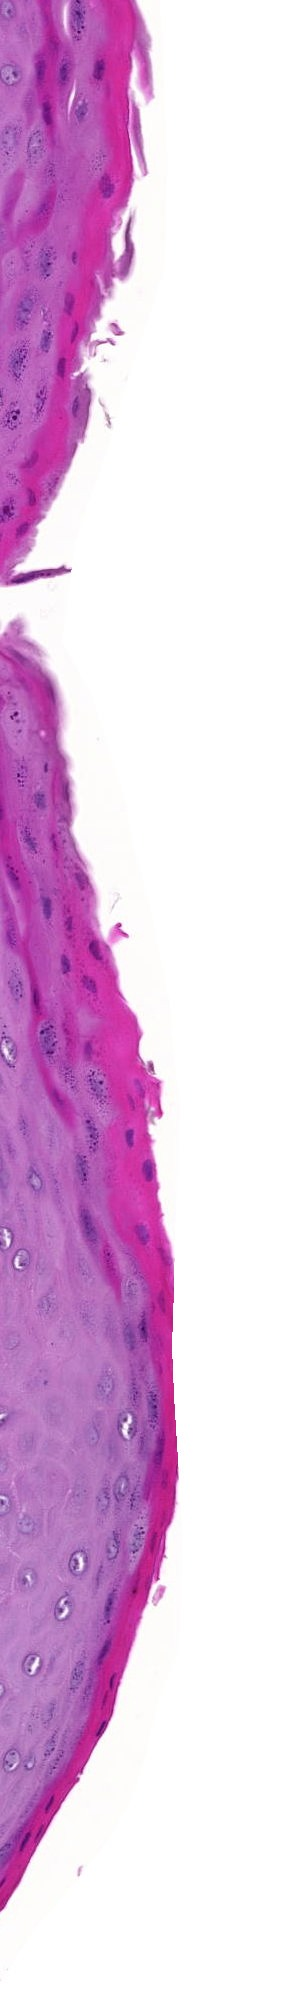epithelial: (86, 1221, 89, 1230), (95, 1084, 101, 1089), (96, 62, 100, 70), (77, 11, 80, 17), (63, 71, 66, 77), (64, 962, 66, 969), (40, 392, 42, 398), (126, 1337, 130, 1341), (151, 1407, 156, 1409), (34, 142, 37, 145), (106, 187, 109, 191), (141, 1328, 143, 1332), (137, 1538, 139, 1542), (107, 1605, 110, 1608), (46, 114, 49, 116), (43, 342, 46, 344), (92, 950, 95, 953), (110, 1543, 112, 1546), (49, 1801, 51, 1804), (13, 73, 14, 77), (19, 357, 20, 360), (147, 1168, 149, 1170), (37, 798, 38, 800)
